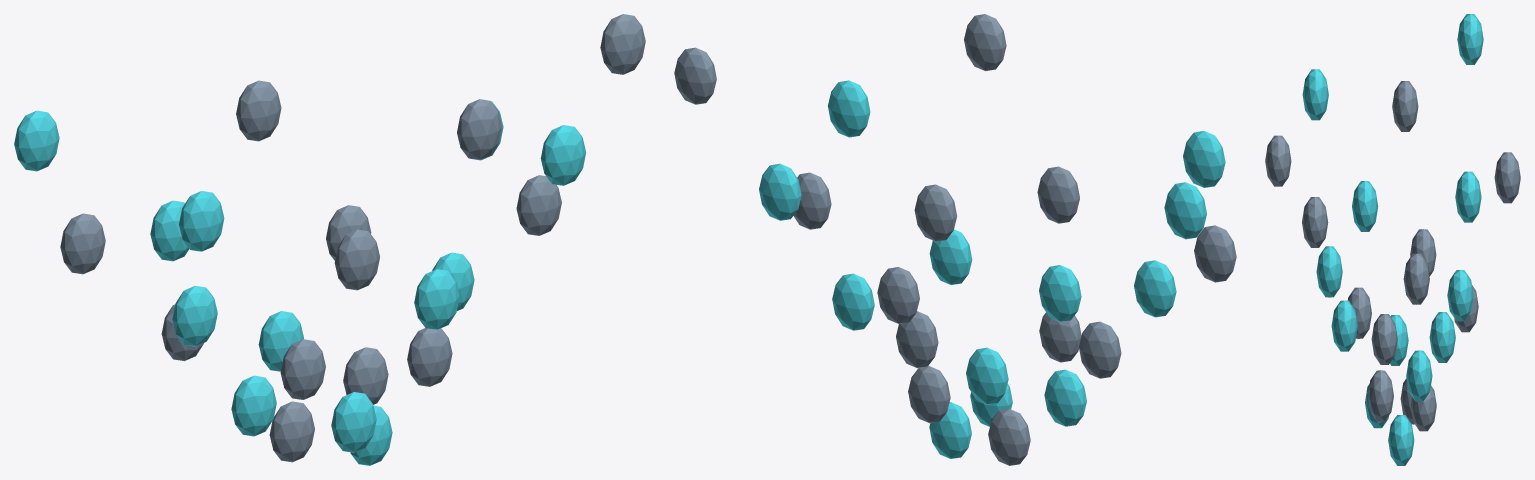
Rendered from swarm.glb.
3 views of the same model, side by side, from view 1: azimuth 30°, elevation 25°; view 2: azimuth 150°, elevation 25°; view 3: azimuth 270°, elevation 25° (orthographic). The views are drawn at different scales.
Parts seen in each view (by area): view 1: SWARM_BODY_PRIMARY.009, SWARM_BODY_ACCENT.009, SWARM_BODY_PRIMARY.010, SWARM_BODY_ACCENT.002, SWARM_BODY_ACCENT.005, SWARM_BODY_PRIMARY.003, SWARM_BODY_ACCENT.006, SWARM_BODY_ACCENT.010, SWARM_BODY_ACCENT.001, SWARM_BODY_PRIMARY.007, SWARM_BODY_PRIMARY.008, SWARM_BODY_ACCENT.011 (+11 smaller); view 2: SWARM_BODY_ACCENT.002, SWARM_BODY_PRIMARY.007, SWARM_BODY_ACCENT.008, SWARM_BODY_PRIMARY.010, SWARM_BODY_ACCENT.003, SWARM_BODY_ACCENT.004, SWARM_BODY_PRIMARY.004, SWARM_BODY_ACCENT.006, SWARM_BODY_PRIMARY.008, SWARM_BODY_ACCENT.009, SWARM_BODY_PRIMARY.009, SWARM_BODY_ACCENT.011 (+12 smaller); view 3: SWARM_BODY_ACCENT.007, SWARM_BODY_PRIMARY.009, SWARM_BODY_PRIMARY.011, SWARM_BODY_PRIMARY.002, SWARM_BODY_ACCENT.004, SWARM_BODY_ACCENT.005, SWARM_BODY_ACCENT.009, SWARM_BODY_ACCENT.010, SWARM_BODY_ACCENT.008, SWARM_BODY_ACCENT.011, SWARM_BODY_PRIMARY.010, SWARM_BODY_ACCENT (+11 smaller).
Boxes of the visible parts, <box> form: SWARM_BODY_PRIMARY.009: <box>236,80,281,141</box>; SWARM_BODY_ACCENT.009: <box>540,125,586,185</box>; SWARM_BODY_PRIMARY.010: <box>600,14,645,74</box>; SWARM_BODY_ACCENT.002: <box>231,375,276,436</box>; SWARM_BODY_ACCENT.005: <box>414,269,459,329</box>; SWARM_BODY_PRIMARY.003: <box>280,339,325,399</box>; SWARM_BODY_ACCENT.006: <box>172,285,217,346</box>; SWARM_BODY_ACCENT.010: <box>179,191,224,251</box>; SWARM_BODY_ACCENT.001: <box>331,392,376,452</box>; SWARM_BODY_PRIMARY.007: <box>334,229,379,290</box>; SWARM_BODY_PRIMARY.008: <box>60,213,105,274</box>; SWARM_BODY_ACCENT.011: <box>14,110,59,171</box>; SWARM_BODY_ACCENT.002: <box>1044,369,1086,426</box>; SWARM_BODY_PRIMARY.007: <box>1037,166,1079,223</box>; SWARM_BODY_ACCENT.008: <box>759,163,801,220</box>; SWARM_BODY_PRIMARY.010: <box>674,47,716,104</box>; SWARM_BODY_ACCENT.003: <box>966,347,1008,404</box>; SWARM_BODY_ACCENT.004: <box>832,273,874,330</box>; SWARM_BODY_PRIMARY.004: <box>1079,321,1121,378</box>; SWARM_BODY_ACCENT.006: <box>1134,260,1176,317</box>; SWARM_BODY_PRIMARY.008: <box>1194,225,1236,282</box>; SWARM_BODY_ACCENT.009: <box>828,80,870,137</box>; SWARM_BODY_PRIMARY.009: <box>914,184,956,241</box>; SWARM_BODY_ACCENT.011: <box>1164,182,1206,239</box>; SWARM_BODY_ACCENT.007: <box>1455,171,1481,222</box>; SWARM_BODY_PRIMARY.009: <box>1494,152,1520,203</box>; SWARM_BODY_PRIMARY.011: <box>1265,135,1291,186</box>; SWARM_BODY_PRIMARY.002: <box>1367,370,1393,421</box>; SWARM_BODY_ACCENT.004: <box>1406,350,1432,401</box>; SWARM_BODY_ACCENT.005: <box>1331,300,1357,351</box>; SWARM_BODY_ACCENT.009: <box>1316,246,1342,297</box>; SWARM_BODY_ACCENT.010: <box>1302,69,1328,120</box>; SWARM_BODY_ACCENT.008: <box>1447,270,1473,321</box>; SWARM_BODY_ACCENT.011: <box>1457,14,1483,64</box>; SWARM_BODY_PRIMARY.010: <box>1403,253,1429,304</box>; SWARM_BODY_ACCENT: <box>1388,415,1414,465</box>.
Size of the model in its own units: 3.06 by 2.02 by 1.36.
